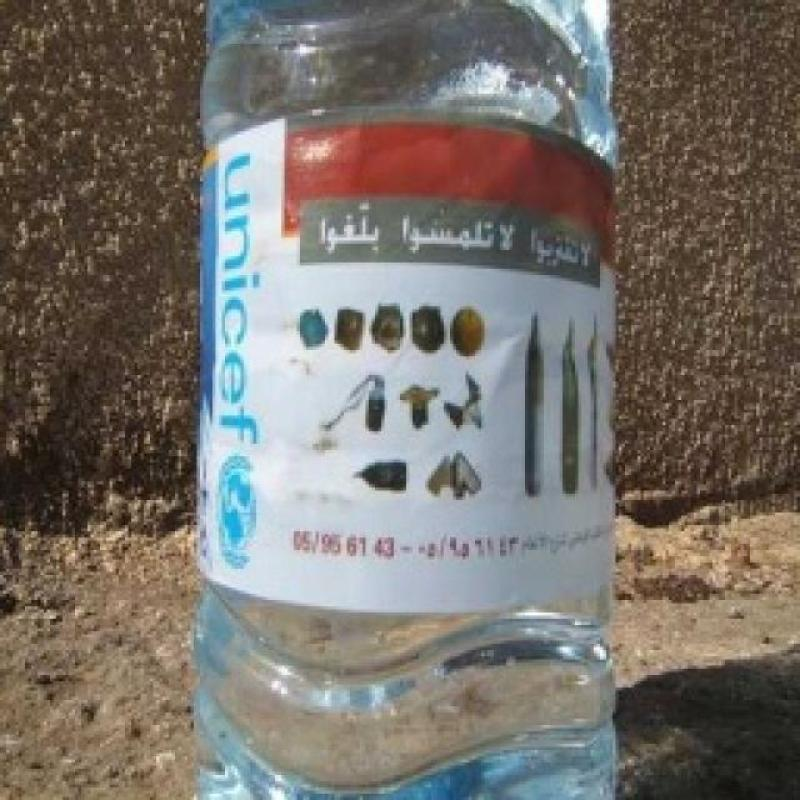botella: (195, 0, 624, 800)
